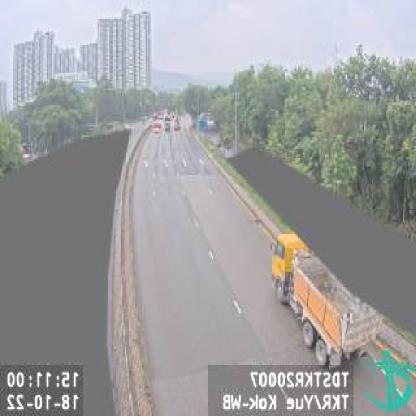Truck: (272, 234, 383, 372)
